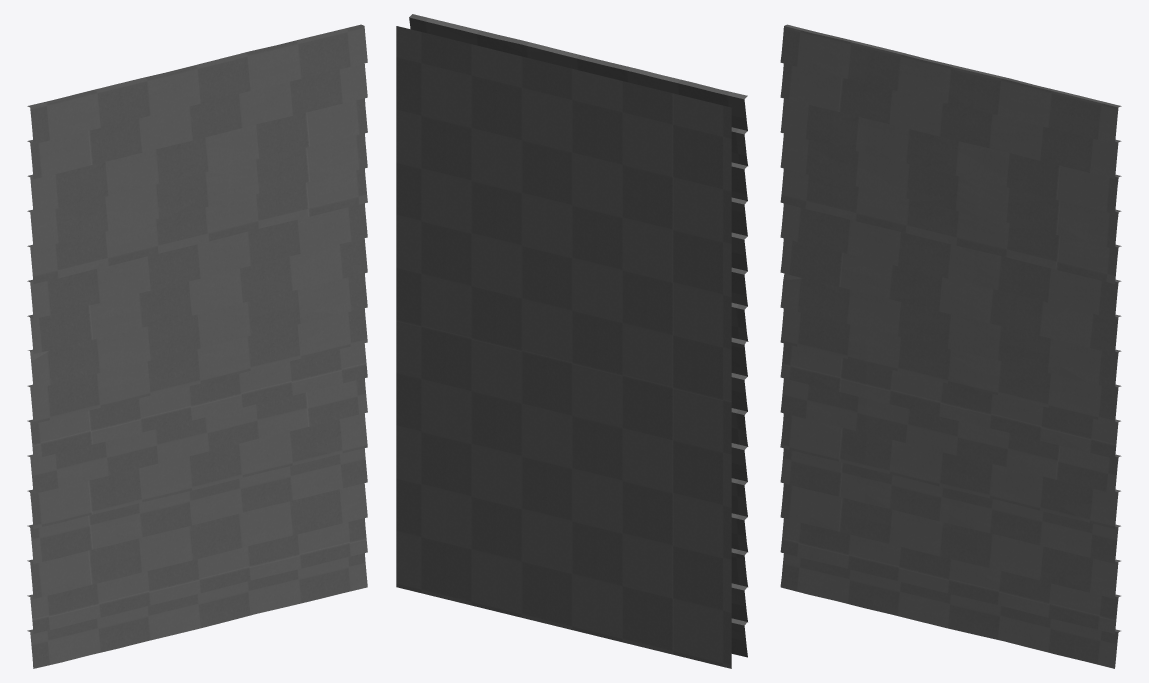
File: SM_House_ExtWall_200CM3.glb
3 renders of one model, left to right at view 1: azimuth 30°, elevation 25°; view 2: azimuth 150°, elevation 25°; view 3: azimuth 330°, elevation 25°, orthographic.
Parts seen in each view (by area): view 1: SM_House_ExtWall_200CM3; view 2: SM_House_ExtWall_200CM3; view 3: SM_House_ExtWall_200CM3.
Boxes of the visible parts, left/top/right/bottom form: SM_House_ExtWall_200CM3: left=27, top=24, right=367, bottom=668; SM_House_ExtWall_200CM3: left=396, top=14, right=748, bottom=668; SM_House_ExtWall_200CM3: left=780, top=24, right=1121, bottom=668.
Size of the model in its own units: 200 by 321 by 20.38.
Materials: 1 (1 with a texture image).
